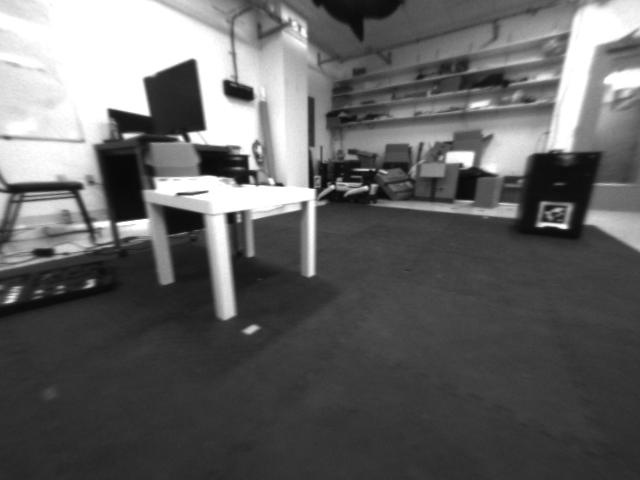drawer: (555, 151, 577, 171)
